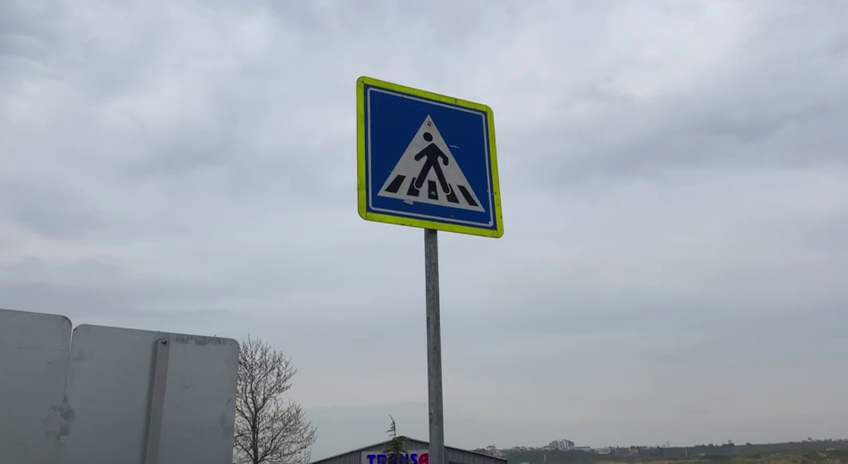pedestrianCrossing: (353, 73, 509, 244)
